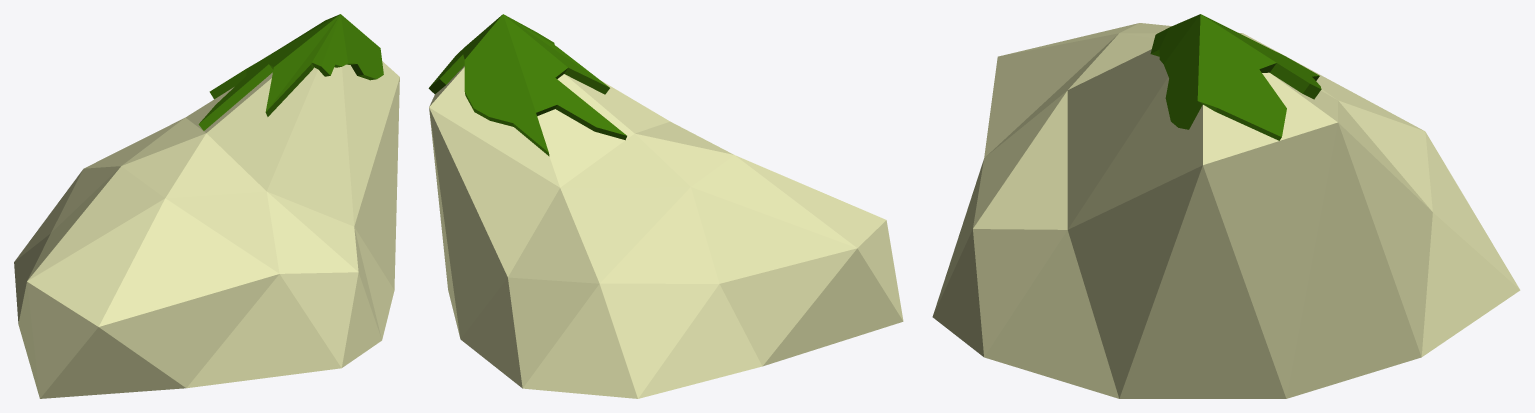
File: stenen5.fbx
3 renders of one model, left to right at view 1: azimuth 30°, elevation 25°; view 2: azimuth 150°, elevation 25°; view 3: azimuth 270°, elevation 25°, orthographic. The views are drawn at different scales.
Visible parts, largest first — view 1: Icosphere.001; view 2: Icosphere.001; view 3: Icosphere.001.
Boxes of the visible parts, left/top/right/bottom form: Icosphere.001: left=14, top=14, right=399, bottom=398; Icosphere.001: left=428, top=14, right=903, bottom=398; Icosphere.001: left=932, top=14, right=1520, bottom=398.
Size of the model in its own units: 248 by 150 by 217.
